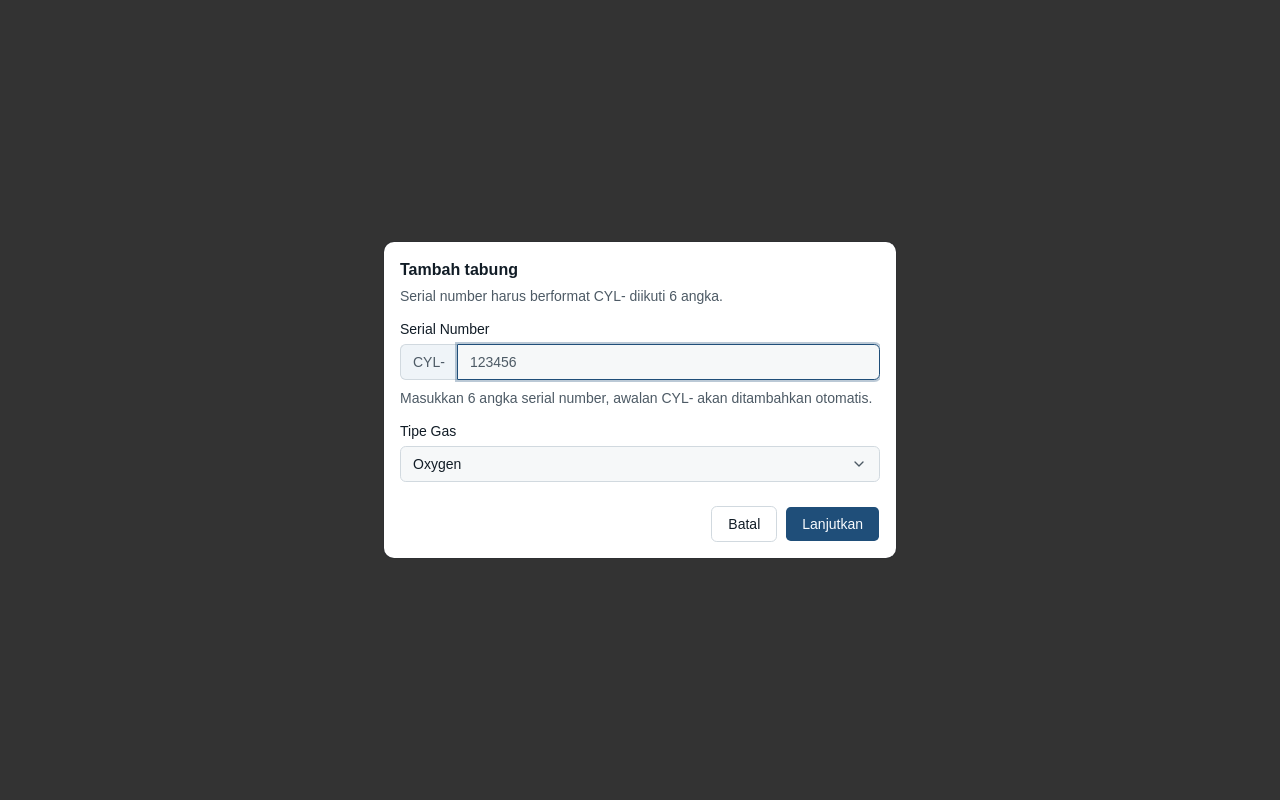
Test case: CylinderFormDialog serial input › hanya menyimpan 6 angka saat mengetik campuran huruf
Type "12a3b4567" into the field labelled "Serial Number" at coordinates (668, 362), box [457,344,880,380]
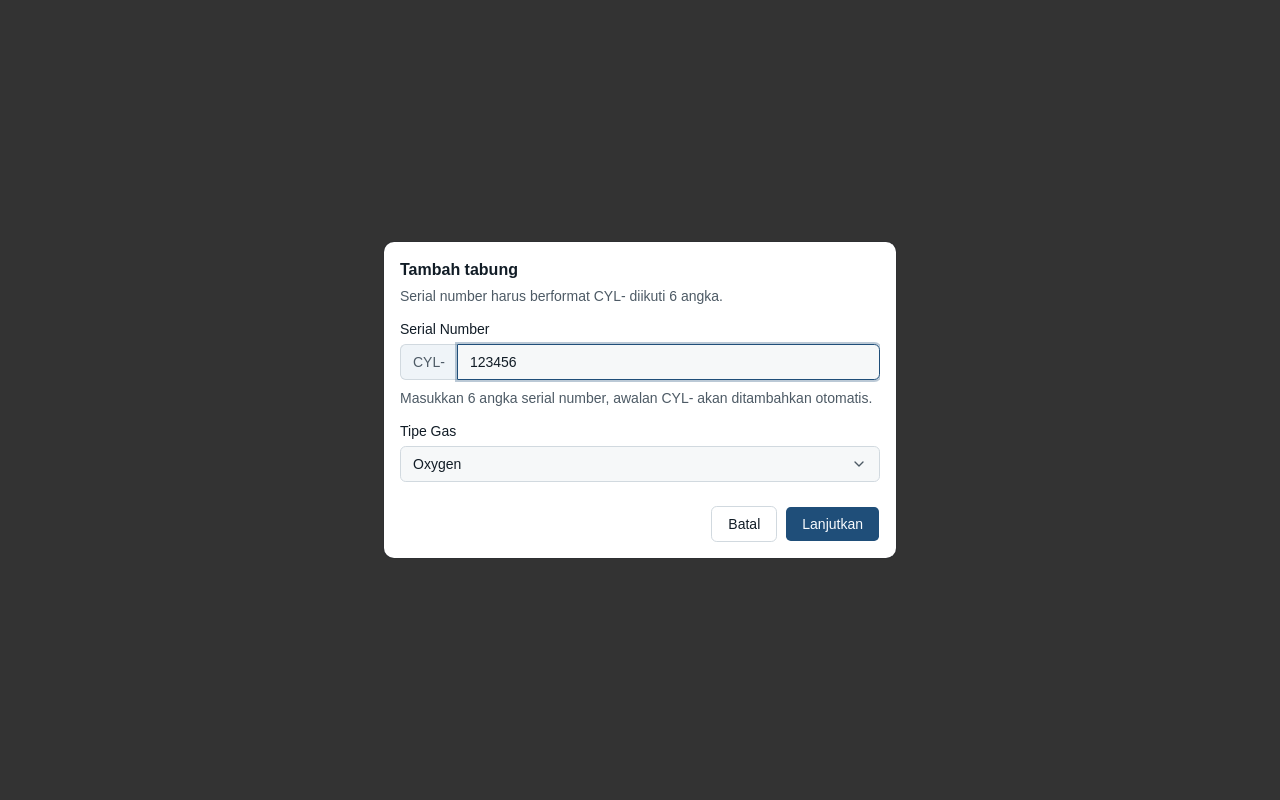
Now the field labelled "Serial Number" holds "123456", box [457,344,880,380]
